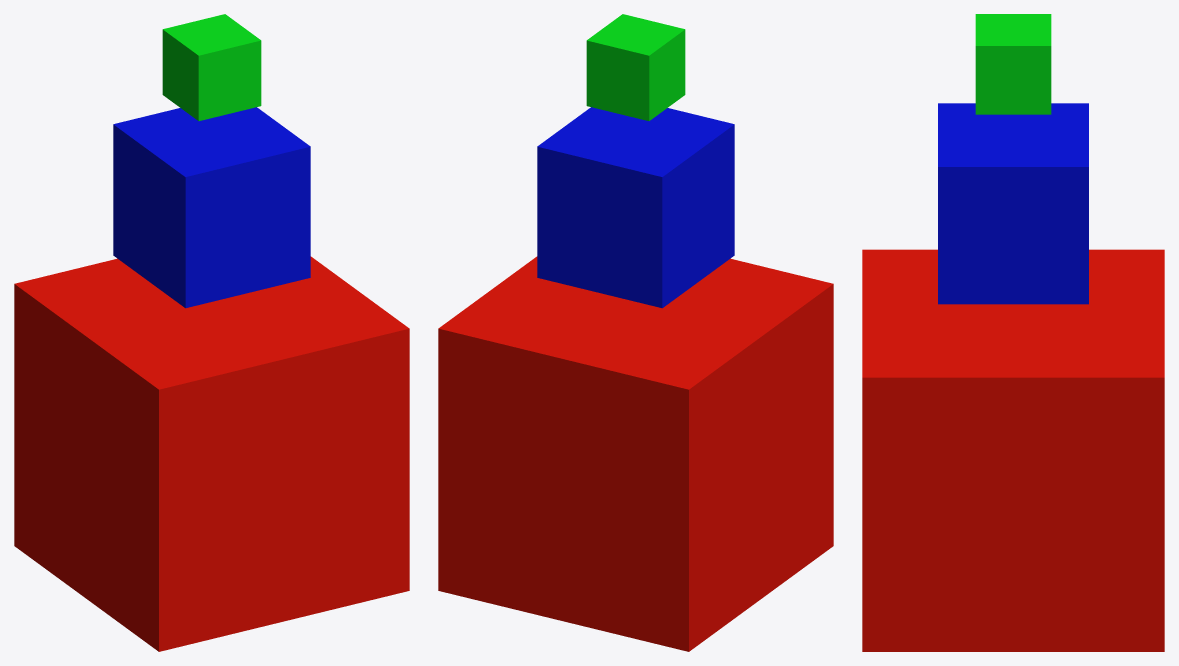
File: cube_hierarchy.dae
3 renders of one model, left to right at view 1: azimuth 30°, elevation 25°; view 2: azimuth 150°, elevation 25°; view 3: azimuth 270°, elevation 25°, orthographic. The views are drawn at different scales.
Parts seen in each view (by area): view 1: cubeMain, cubeChild, cubeGrandChild; view 2: cubeMain, cubeChild, cubeGrandChild; view 3: cubeMain, cubeChild, cubeGrandChild.
Part boxes in pixels (x1,y1,x2,y2): cubeMain: [14, 256, 409, 651]; cubeChild: [113, 107, 310, 308]; cubeGrandChild: [162, 14, 261, 120]; cubeMain: [438, 256, 833, 651]; cubeChild: [537, 107, 734, 308]; cubeGrandChild: [586, 14, 685, 120]; cubeMain: [862, 249, 1164, 651]; cubeChild: [938, 103, 1088, 304]; cubeGrandChild: [975, 14, 1051, 114].
Size of the model in its own units: 2 by 2 by 4.07.
